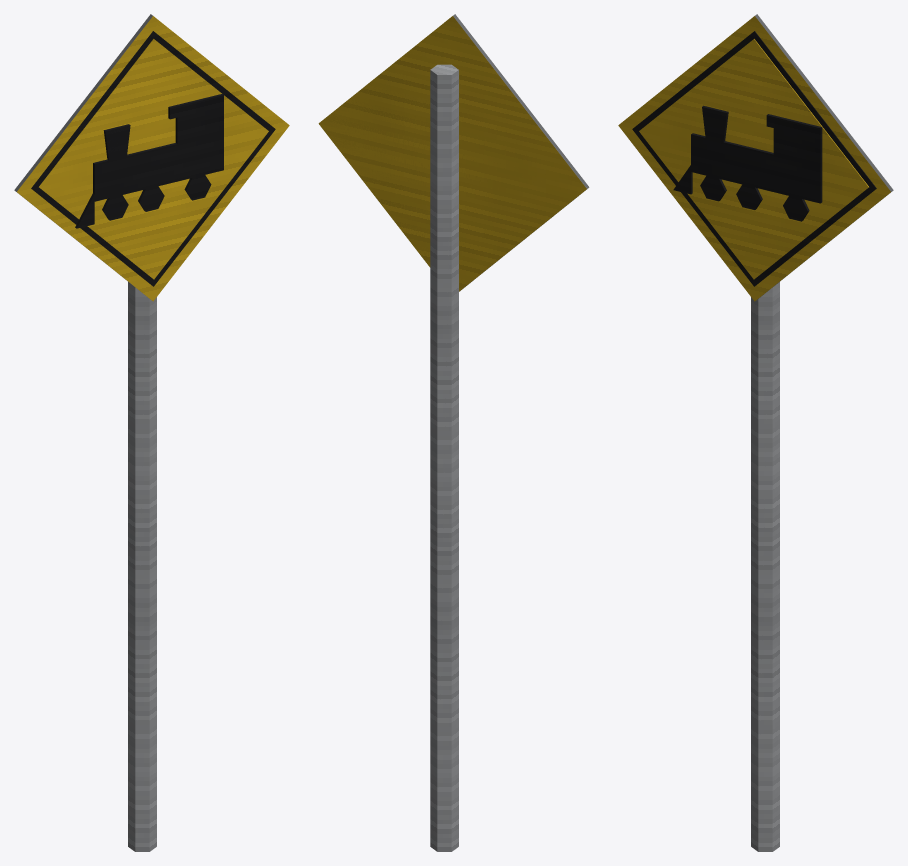
File: placa_cruzamento_trem.glb
The picture shows the model from 3 angles, left to right: view 1: azimuth 30°, elevation 25°; view 2: azimuth 150°, elevation 25°; view 3: azimuth 330°, elevation 25°; orthographic projection.
Parts seen in each view (by area): view 1: Inteiro; view 2: Inteiro, Peca_01; view 3: Inteiro.
Boxes of the visible parts, x1,y1,x2,y2 form: Inteiro: [14, 14, 289, 851]; Inteiro: [318, 14, 589, 851]; Peca_01: [319, 31, 575, 284]; Inteiro: [618, 14, 893, 851].
Size of the model in its own units: 0.76 by 2.23 by 0.099.
1 material, 1 textured.
